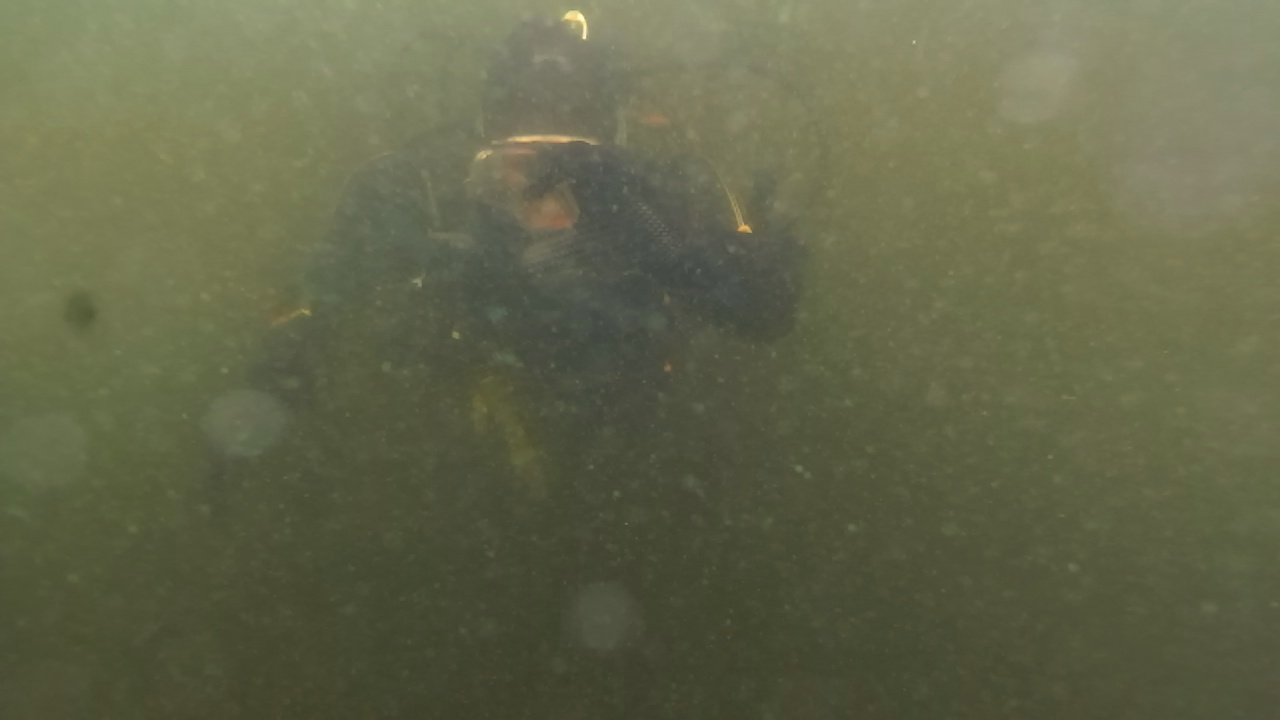Diver: (212, 8, 838, 442)
Hand: (514, 134, 714, 286)
Head: (474, 20, 632, 230)
